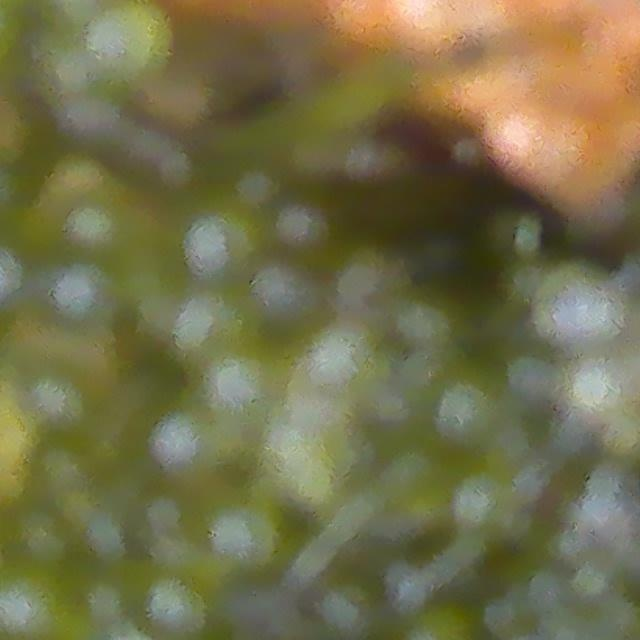SeaGrape: (79, 0, 183, 89), (198, 334, 295, 429), (178, 193, 272, 284), (62, 177, 149, 264), (148, 403, 236, 486), (0, 556, 78, 640), (248, 257, 325, 336), (46, 257, 120, 330), (268, 194, 338, 263), (435, 372, 502, 444), (142, 572, 212, 640), (13, 504, 77, 570), (507, 352, 556, 403)
